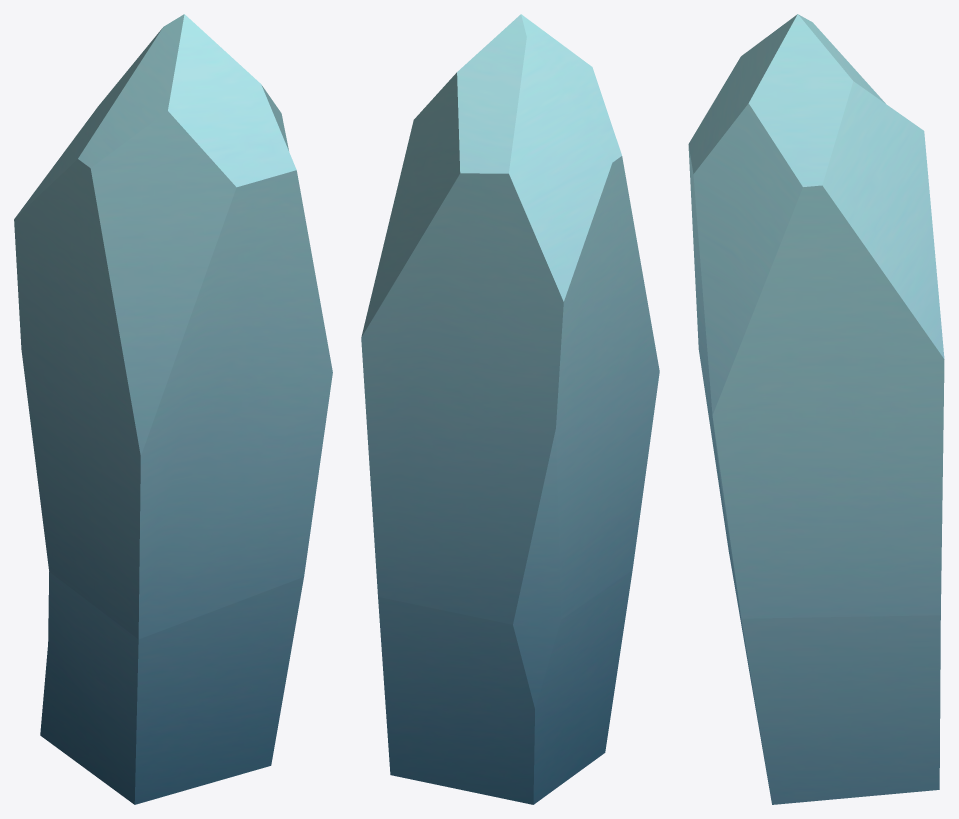
Rendered from Crystall.fbx.
3 renders of one model, left to right at view 1: azimuth 30°, elevation 25°; view 2: azimuth 150°, elevation 25°; view 3: azimuth 270°, elevation 25°, orthographic. The views are drawn at different scales.
Parts seen in each view (by area): view 1: Cube.001; view 2: Cube.001; view 3: Cube.001.
Boxes of the visible parts, x1=… form: Cube.001: x1=14, y1=14, x2=332, y2=804; Cube.001: x1=361, y1=14, x2=659, y2=804; Cube.001: x1=688, y1=14, x2=944, y2=804.
Bounding box in the file's own units: 18.51 × 63.22 × 19.41.
